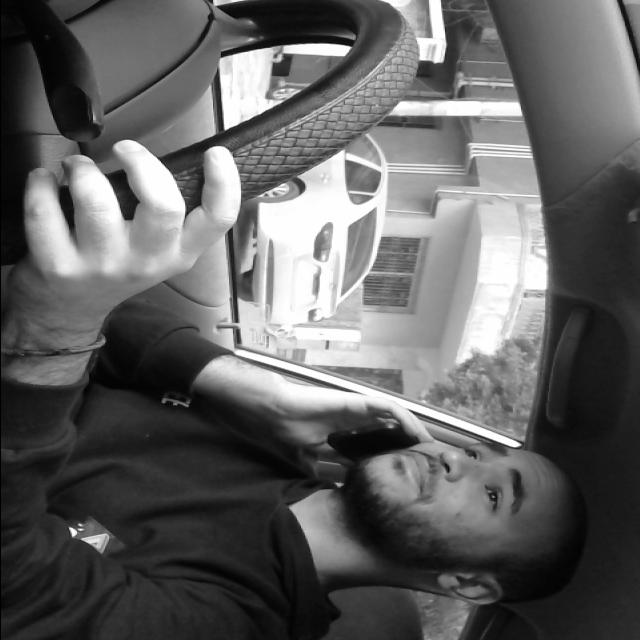mobile use: (324, 420, 442, 492)
